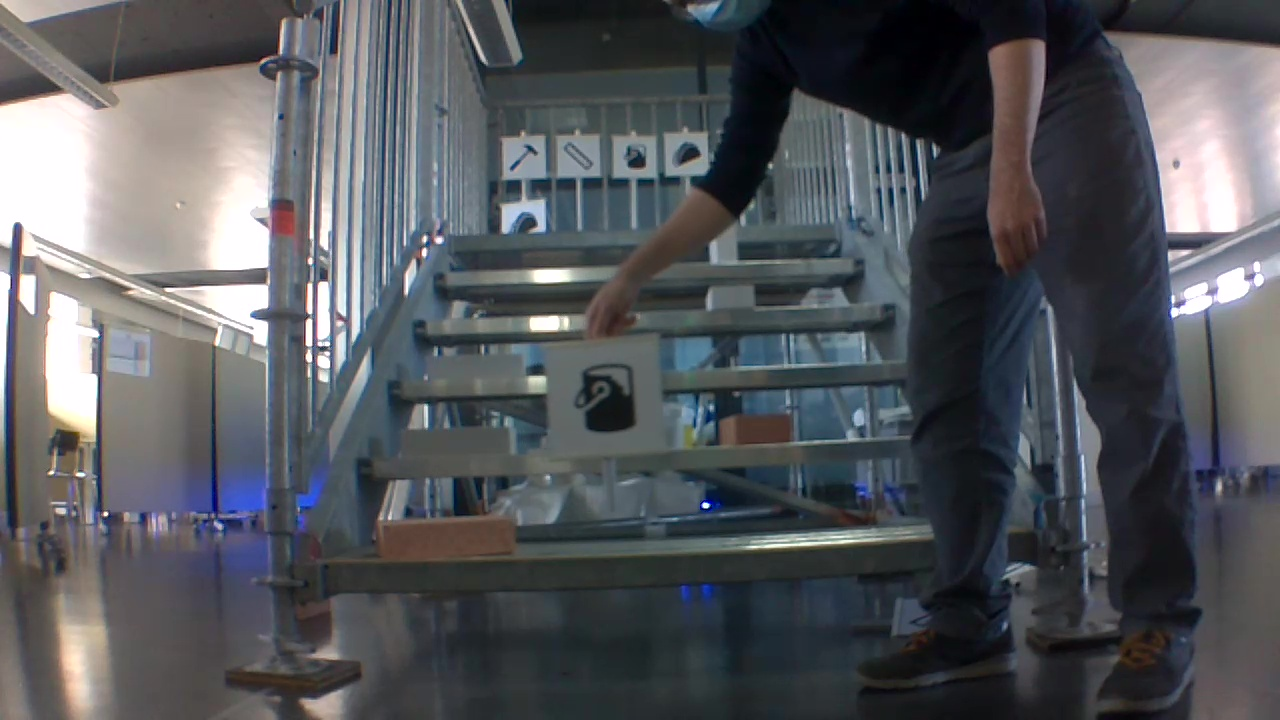brick: (378, 517, 510, 562), (401, 428, 515, 458), (428, 353, 524, 380), (719, 413, 792, 444), (710, 220, 737, 262), (708, 287, 754, 309)
bucket: (566, 358, 642, 437), (618, 140, 650, 170)
edge: (323, 530, 1040, 590)
hammer: (504, 139, 540, 177)
ruler: (560, 137, 597, 175)
taco: (668, 139, 701, 170), (505, 207, 539, 233)
